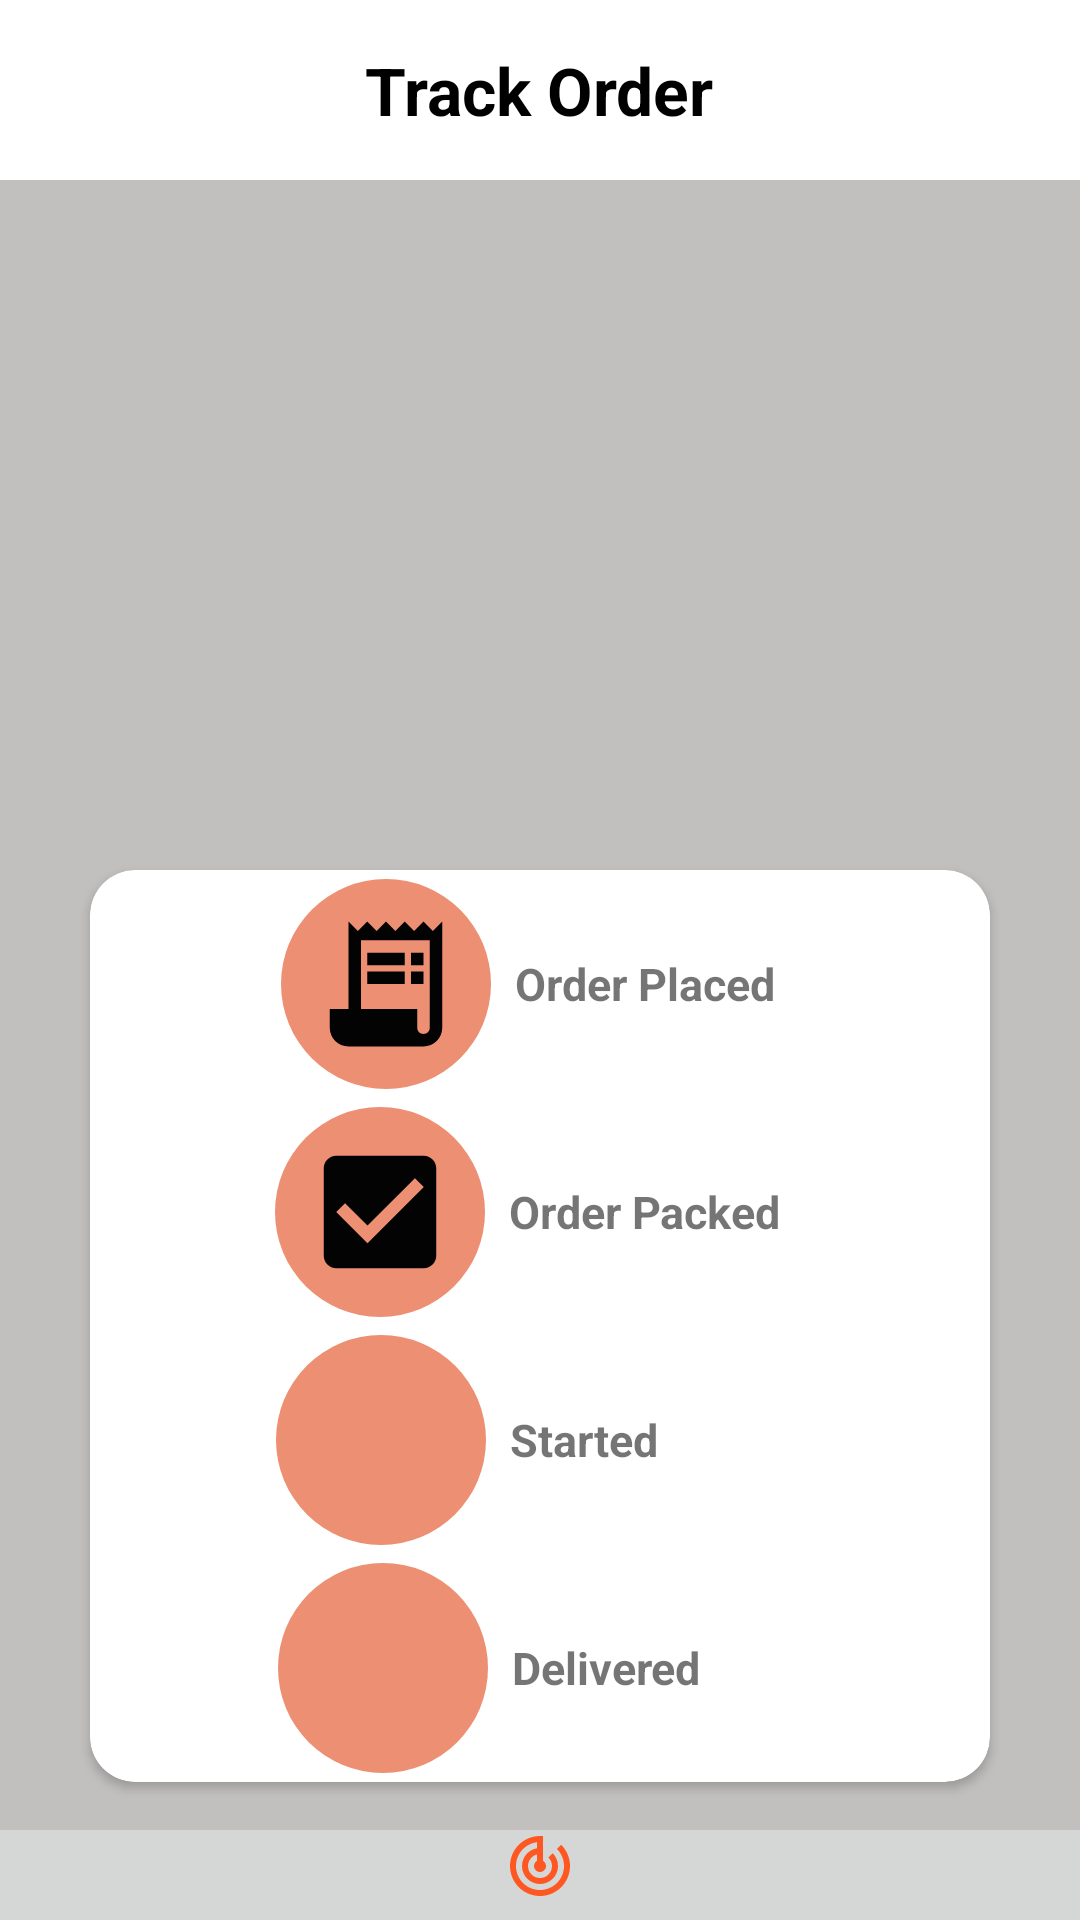

Icons on this 1080x1920 Android screen, each with the point to tap as [x,y]:
box: [380,1212]
